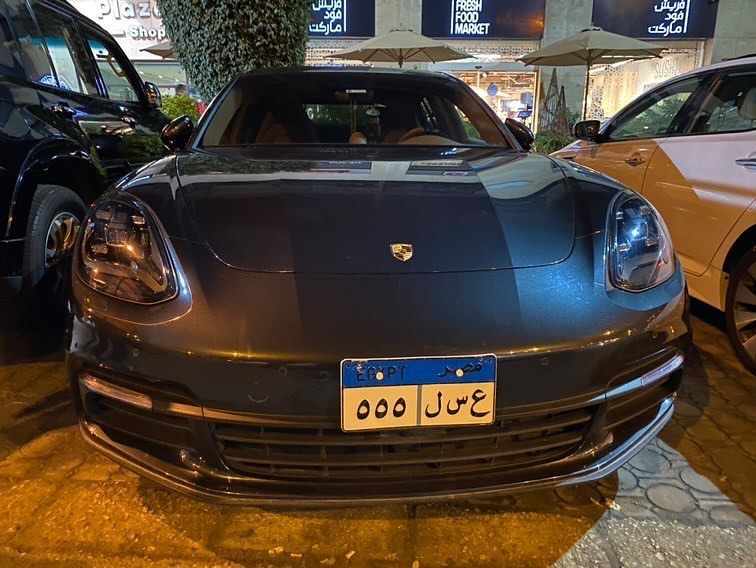carpl: (338, 363, 490, 428)
